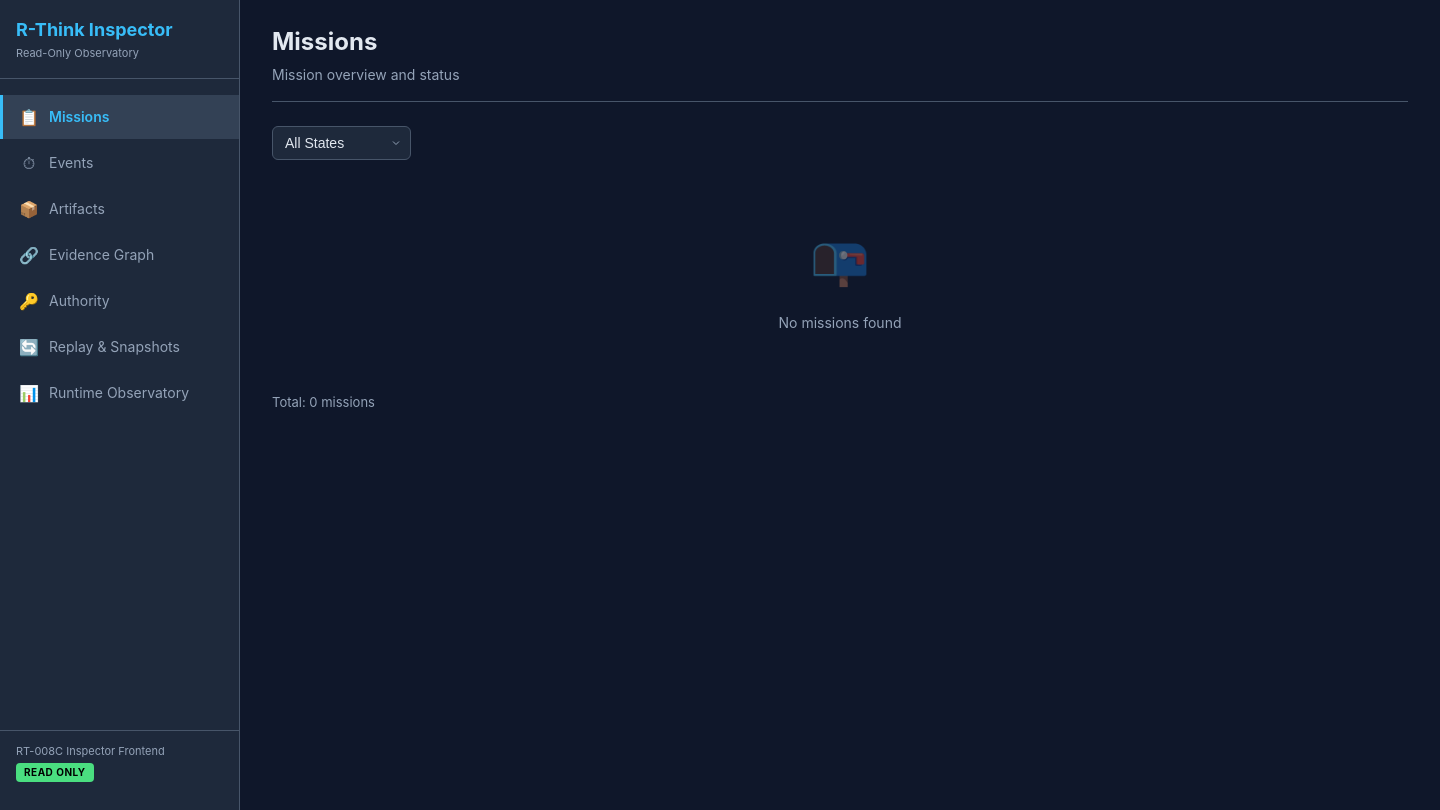
Scenario: Navigation › navigates to Events view on click
Expected: the heading "Missions" is shown, x1=272 y1=27 x2=377 y2=56
What coordinates should you click on to do the following:
click the link "⏱ Events"
I would click on:
 (58, 162)
Its box is x1=23 y1=152 x2=93 y2=172.
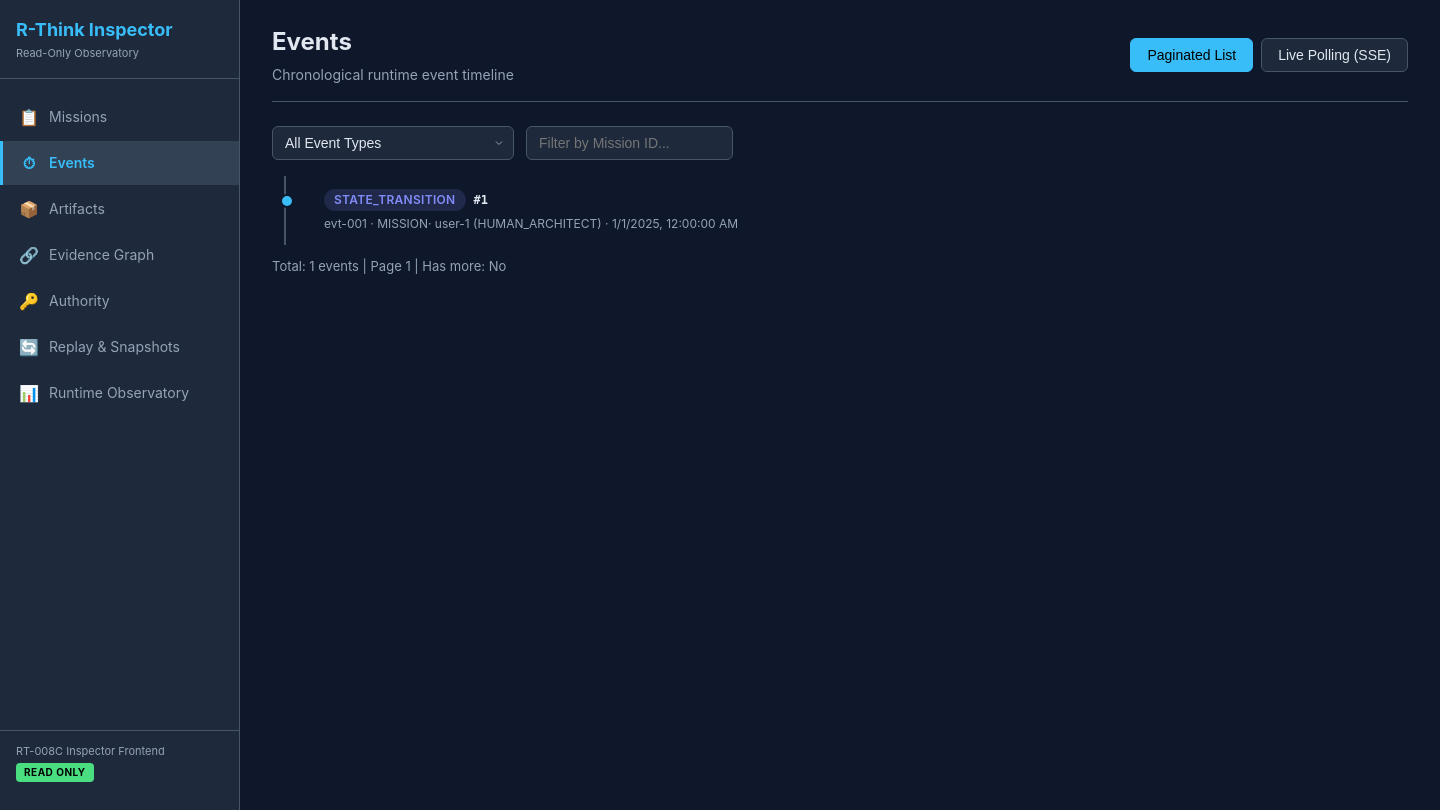
Result: the text "Chronological runtime event timeline" is shown at x1=272 y1=64 x2=514 y2=85
